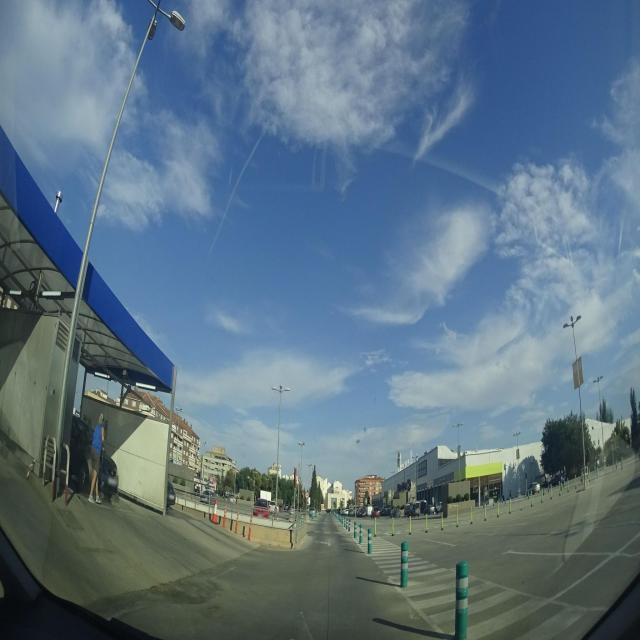car: (252, 499, 272, 517), (404, 502, 421, 518), (199, 490, 215, 503), (381, 506, 392, 518)
